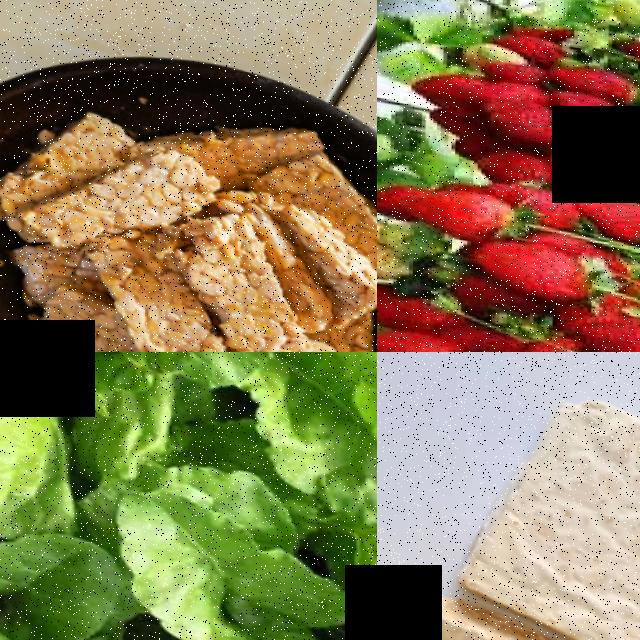spinach: (109, 473, 352, 640), (0, 515, 119, 640), (0, 361, 75, 556)
strawberry: (470, 226, 597, 296), (413, 178, 514, 234), (485, 93, 572, 145), (410, 63, 485, 114), (574, 175, 640, 231), (575, 303, 640, 352), (377, 320, 475, 352)
tempeh: (457, 376, 640, 640), (13, 127, 215, 254), (177, 205, 313, 352), (104, 252, 228, 352), (195, 108, 322, 191), (298, 203, 377, 320)
